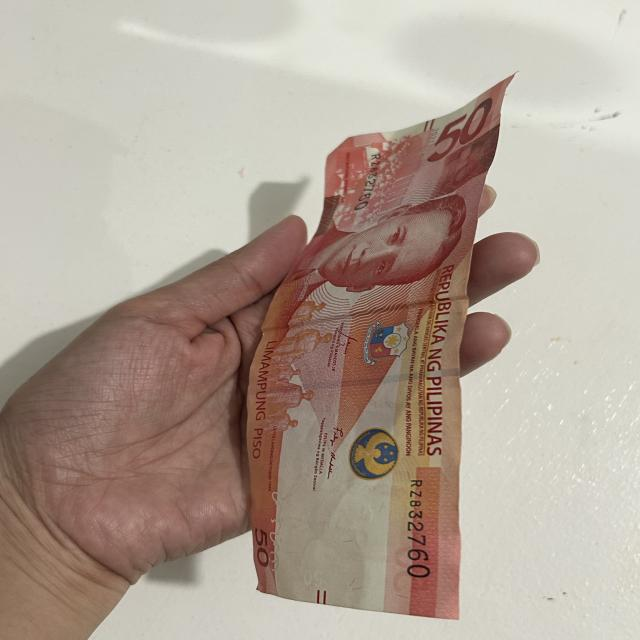concealed_value: (429, 122, 497, 198)
security_thread: (250, 356, 459, 406)
see_through_mark: (265, 489, 290, 580)
serial_number: (402, 469, 447, 587), (345, 152, 389, 216)
value: (425, 91, 496, 167)
value_watermark: (301, 563, 327, 589)
watermark: (278, 479, 419, 591)
